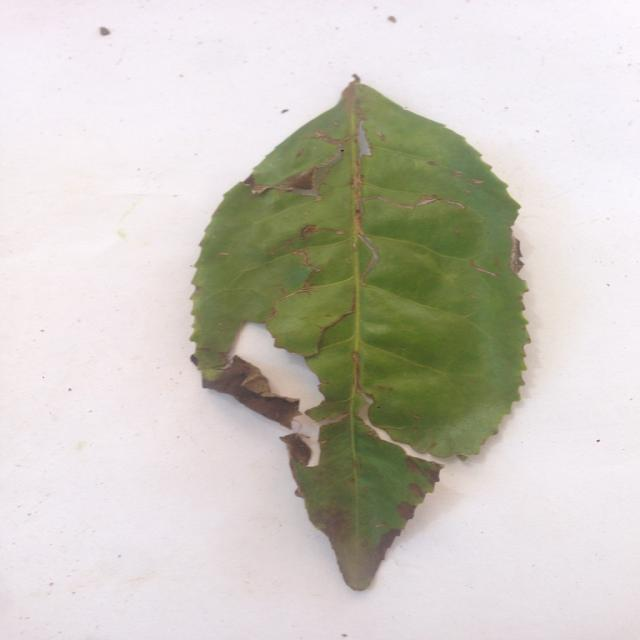Brown Blight: (193, 59, 554, 610)
